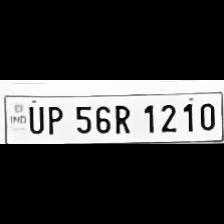0: (195, 100, 217, 132)
1: (136, 102, 158, 134), (176, 100, 196, 132)
2: (156, 100, 178, 134)
5: (69, 102, 93, 134)
6: (92, 102, 112, 134)
P: (43, 102, 65, 136)
R: (110, 101, 132, 135)
U: (23, 102, 45, 134)
